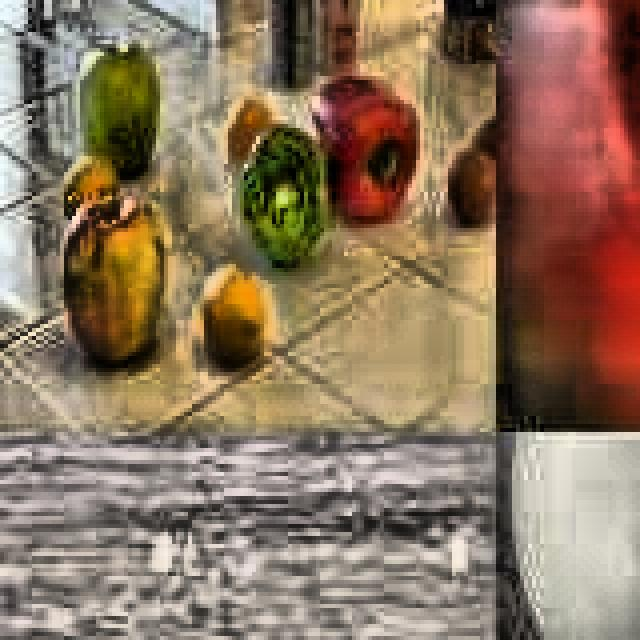bell_pepper: (496, 0, 640, 432), (308, 64, 420, 222), (240, 128, 334, 270)
egg: (496, 432, 640, 640), (448, 152, 496, 220), (472, 112, 496, 188)
